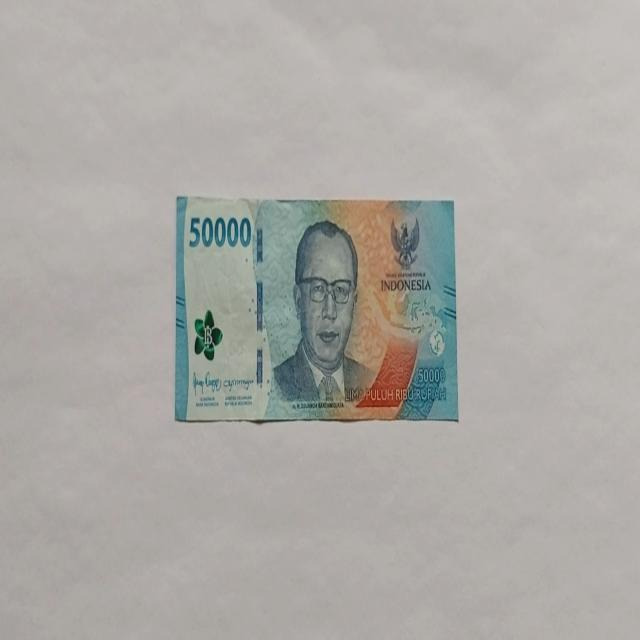lima puluh ribu rupiah: (174, 194, 458, 424), (268, 218, 377, 410)
